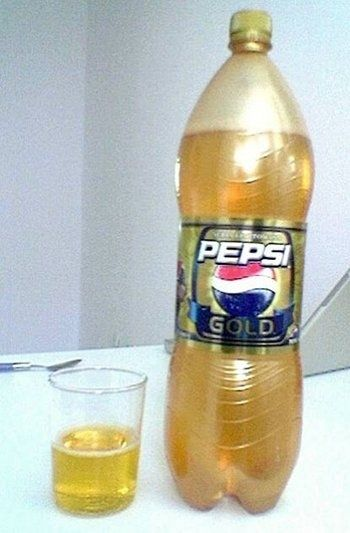pepsi: (208, 258, 272, 317)
